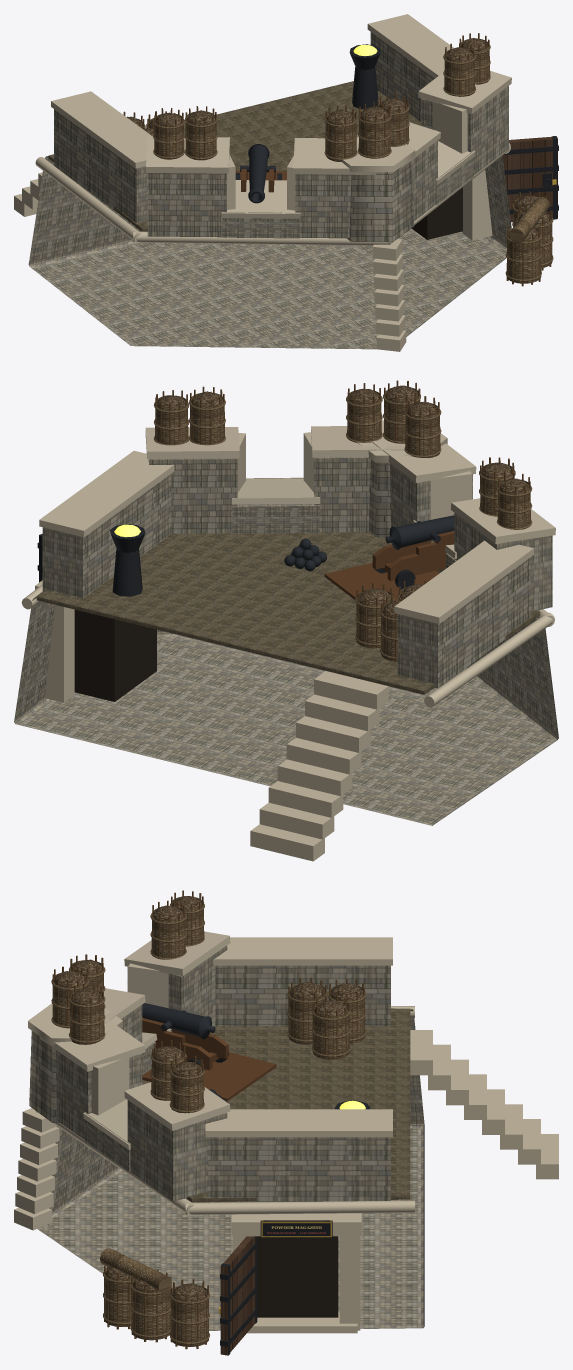
The model's file is colonial_fort_bastion.glb.
3 views of the same model, one above another, from view 1: azimuth 30°, elevation 25°; view 2: azimuth 150°, elevation 25°; view 3: azimuth 270°, elevation 25° (orthographic). The views are drawn at different scales.
Visible parts, largest first — view 1: British_Colonial_Fort_Bastion_Embrasure_Gabions, Angled_Parapet_With_Embrasures, Wicker_Gabion_Basket (×9), Iron_Banded_Magazine_Door, Iron_Banded_Powder_Magazine, Garrison_Watchfire_Brazier, Cast_Iron_Garrison_Cannon, Wicker_Earth_Filled_Gabion_Baskets; view 2: British_Colonial_Fort_Bastion_Embrasure_Gabions, Angled_Parapet_With_Embrasures, Wicker_Gabion_Basket (×9), Iron_Banded_Powder_Magazine, Cast_Iron_Garrison_Cannon, Garrison_Watchfire_Brazier, Embrasure_Garrison_Cannon_Station, Cannonball_Pyramid; view 3: Angled_Parapet_With_Embrasures, British_Colonial_Fort_Bastion_Embrasure_Gabions, Wicker_Gabion_Basket (×13), Iron_Banded_Powder_Magazine, Iron_Banded_Magazine_Door, Cast_Iron_Garrison_Cannon, Embrasure_Garrison_Cannon_Station, Wicker_Earth_Filled_Gabion_Baskets.
Part boxes in pixels (x1,y1,x2,y2): British_Colonial_Fort_Bastion_Embrasure_Gabions: [14, 81, 511, 351]; Angled_Parapet_With_Embrasures: [51, 14, 511, 241]; Wicker_Gabion_Basket (×9): [153, 33, 553, 286]; Iron_Banded_Magazine_Door: [502, 136, 558, 222]; Iron_Banded_Powder_Magazine: [412, 169, 492, 240]; Garrison_Watchfire_Brazier: [349, 44, 380, 109]; Cast_Iron_Garrison_Cannon: [235, 144, 281, 203]; Wicker_Earth_Filled_Gabion_Baskets: [509, 196, 549, 243]; British_Colonial_Fort_Bastion_Embrasure_Gabions: [14, 532, 558, 861]; Angled_Parapet_With_Embrasures: [39, 420, 555, 688]; Wicker_Gabion_Basket (×9): [154, 380, 532, 661]; Iron_Banded_Powder_Magazine: [35, 580, 156, 702]; Cast_Iron_Garrison_Cannon: [372, 515, 454, 589]; Garrison_Watchfire_Brazier: [110, 524, 145, 596]; Embrasure_Garrison_Cannon_Station: [324, 562, 439, 600]; Cannonball_Pyramid: [284, 538, 326, 571]; Angled_Parapet_With_Embrasures: [28, 931, 392, 1201]; British_Colonial_Fort_Bastion_Embrasure_Gabions: [14, 1006, 558, 1330]; Wicker_Gabion_Basket (×13): [51, 890, 366, 1349]; Iron_Banded_Powder_Magazine: [231, 1213, 361, 1333]; Iron_Banded_Magazine_Door: [218, 1236, 257, 1355]; Cast_Iron_Garrison_Cannon: [142, 1003, 229, 1070]; Embrasure_Garrison_Cannon_Station: [142, 1052, 276, 1101]; Wicker_Earth_Filled_Gabion_Baskets: [100, 1248, 171, 1292].
Size of the model in its own units: 8.9 by 4.39 by 8.48.
15 materials, 6 textured.
